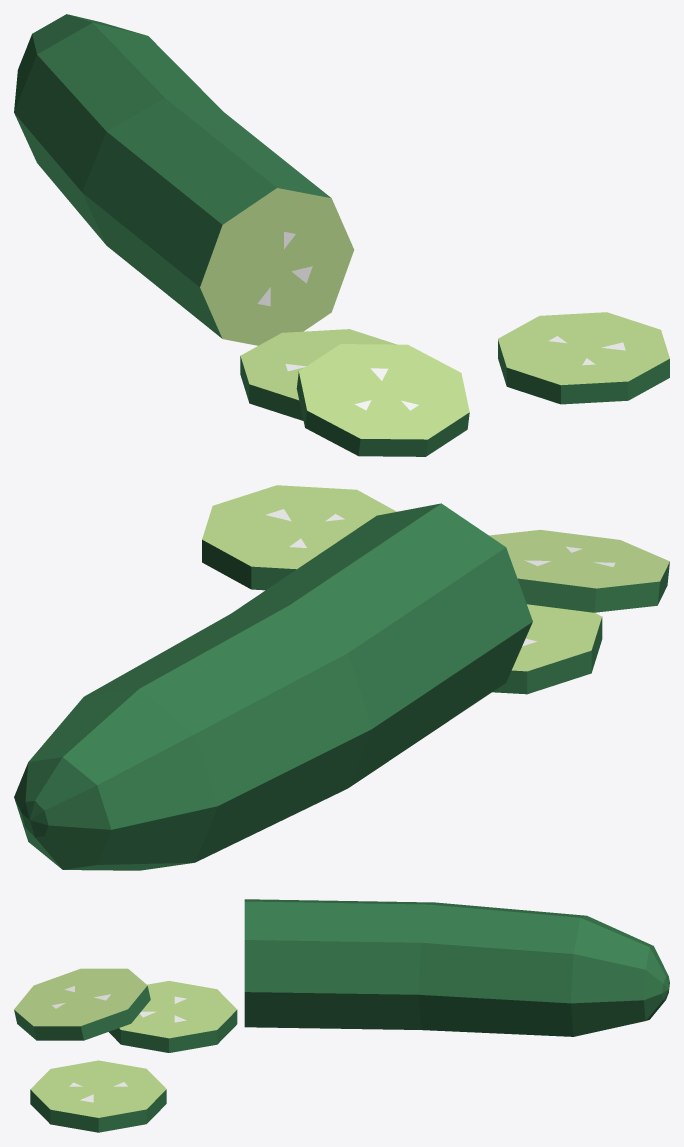
The model's file is cucumber.glb.
3 views of the same model, one above another, from view 1: azimuth 30°, elevation 25°; view 2: azimuth 150°, elevation 25°; view 3: azimuth 270°, elevation 25° (orthographic). The views are drawn at different scales.
Visible parts, largest first — view 1: Cucumber_Circle.016; view 2: Cucumber_Circle.016; view 3: Cucumber_Circle.016.
Boxes of the visible parts, <box> form: Cucumber_Circle.016: <box>14,14,669,456</box>; Cucumber_Circle.016: <box>14,485,669,870</box>; Cucumber_Circle.016: <box>14,899,669,1132</box>.
Size of the model in its own units: 8.84 by 3.74 by 17.96.
